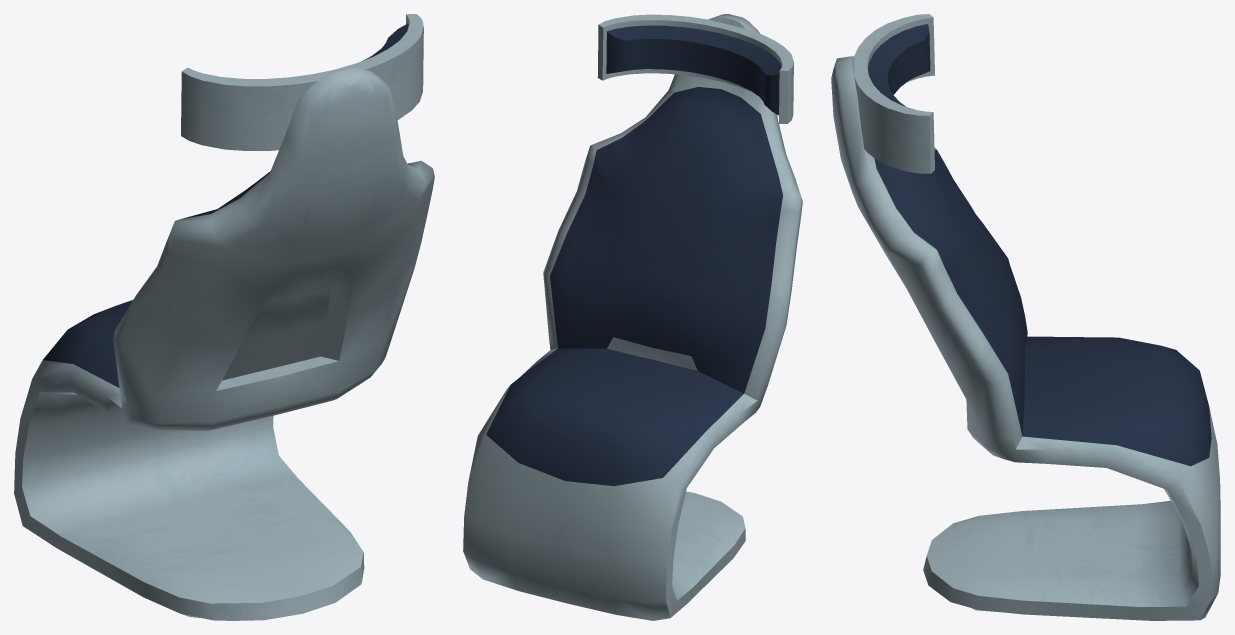
File: Prop_Chair.gltf
The picture shows the model from 3 angles, left to right: view 1: azimuth 30°, elevation 25°; view 2: azimuth 150°, elevation 25°; view 3: azimuth 270°, elevation 25°; orthographic projection. The views are drawn at different scales.
Parts seen in each view (by area): view 1: Prop_Chair; view 2: Prop_Chair; view 3: Prop_Chair.
Boxes of the visible parts, x1,y1,x2,y2 form: Prop_Chair: (14, 14, 434, 620); Prop_Chair: (463, 14, 802, 620); Prop_Chair: (831, 14, 1220, 620).
Bounding box in the file's own units: 0.8807 × 1.64 × 1.12.
2 materials, 2 textured.
